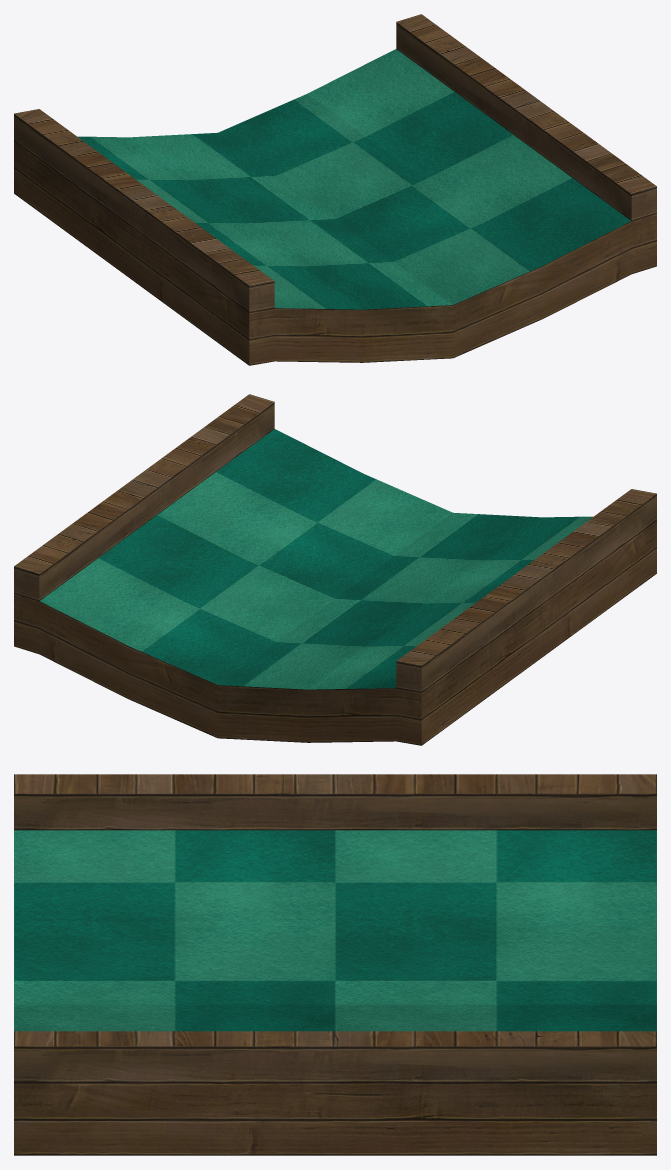
Rendered from Part2_dpath.gltf.
3 views of the same model, one above another, from view 1: azimuth 30°, elevation 25°; view 2: azimuth 150°, elevation 25°; view 3: azimuth 270°, elevation 25° (orthographic). The views are drawn at different scales.
Parts seen in each view (by area): view 1: Part2_dpath_glb; view 2: Part2_dpath_glb; view 3: Part2_dpath_glb.
Boxes of the visible parts, x1=… form: Part2_dpath_glb: x1=14, y1=14, x2=656, y2=365; Part2_dpath_glb: x1=14, y1=394, x2=656, y2=745; Part2_dpath_glb: x1=14, y1=774, x2=656, y2=1155.
Size of what is drawn, in the model's own units: 4 by 1.15 by 4.
Materials: 2 (2 with a texture image).
